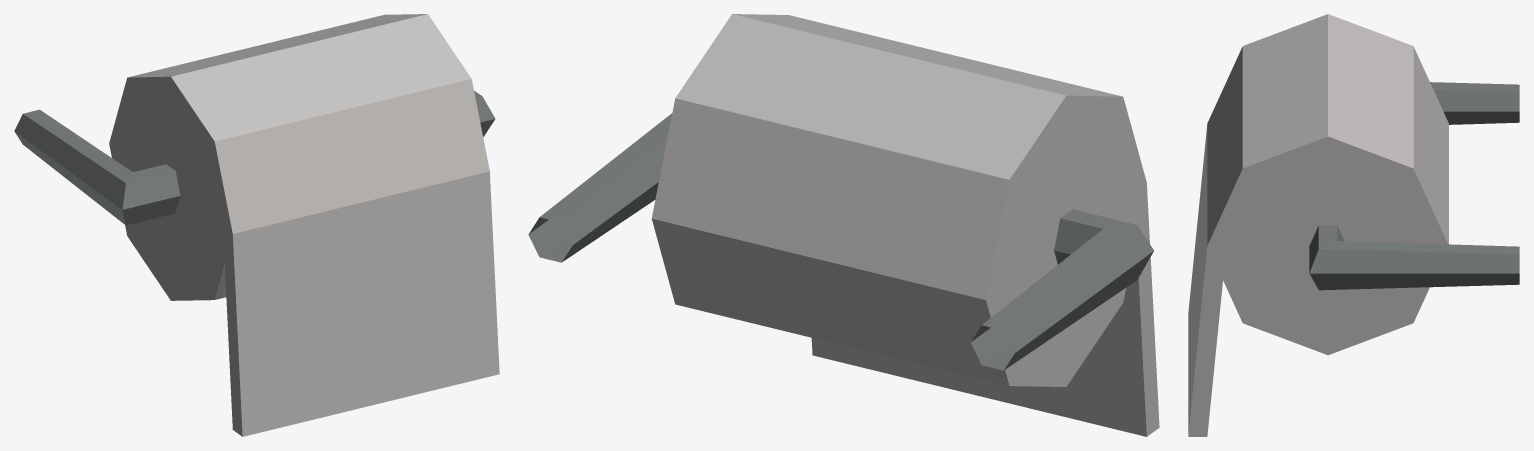
The model's file is SM_Props_Interior_House_Bathroom_Toilet_Paper.fbx.
3 views of the same model, side by side, from view 1: azimuth 30°, elevation 25°; view 2: azimuth 150°, elevation 25°; view 3: azimuth 270°, elevation 25° (orthographic). The views are drawn at different scales.
Visible parts, largest first — view 1: SM_Props_Interior_House_Bathroom_Toilet_Paper; view 2: SM_Props_Interior_House_Bathroom_Toilet_Paper; view 3: SM_Props_Interior_House_Bathroom_Toilet_Paper.
Boxes of the visible parts, x1=… form: SM_Props_Interior_House_Bathroom_Toilet_Paper: x1=14, y1=14, x2=499, y2=436; SM_Props_Interior_House_Bathroom_Toilet_Paper: x1=528, y1=14, x2=1159, y2=436; SM_Props_Interior_House_Bathroom_Toilet_Paper: x1=1188, y1=14, x2=1519, y2=436.
Bounding box in the file's own units: 22 × 17.3 × 17.3.
